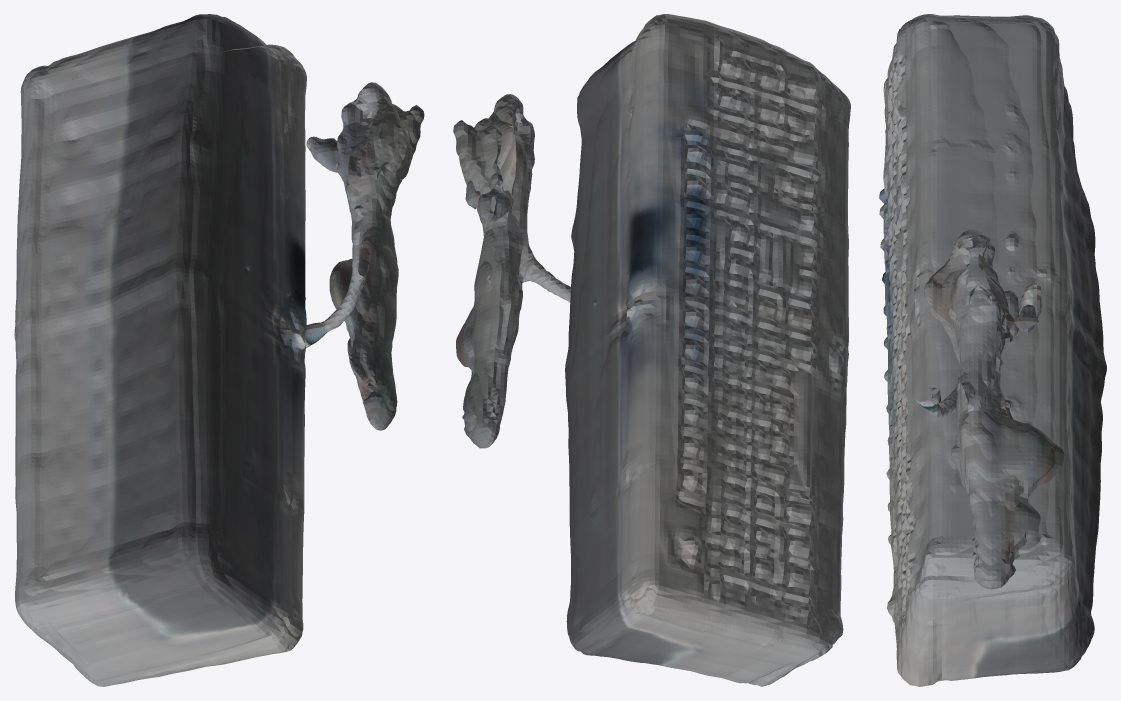
The picture shows the model from 3 angles, left to right: view 1: azimuth 30°, elevation 25°; view 2: azimuth 150°, elevation 25°; view 3: azimuth 270°, elevation 25°; orthographic projection.
Parts seen in each view (by area): view 1: world; view 2: world; view 3: world.
Part boxes in pixels (x1=…): world: x1=14, y1=14, x2=424, y2=686; world: x1=453, y1=14, x2=850, y2=686; world: x1=879, y1=14, x2=1106, y2=686.
Bounding box in the file's own units: 0.6543 × 1.01 × 0.3429.
